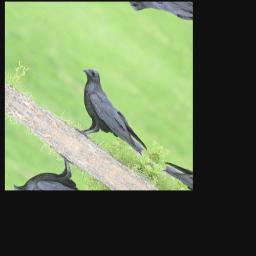Crow: (54, 63, 167, 173)
